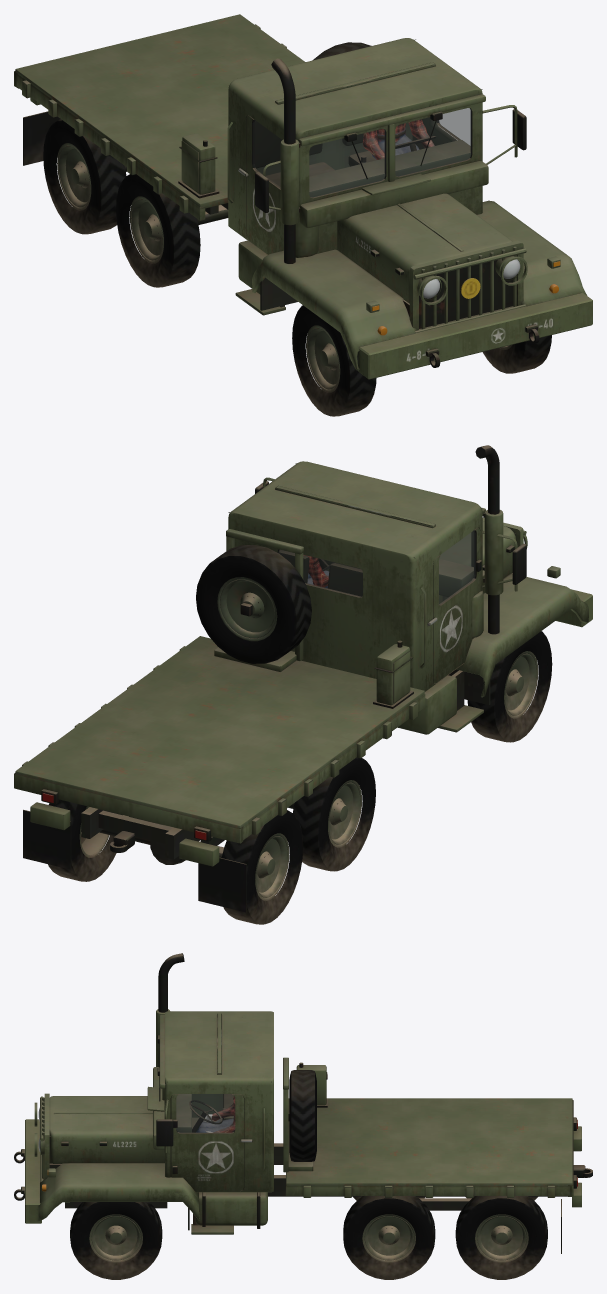
The model's file is nuketown_m35.glb.
3 views of the same model, one above another, from view 1: azimuth 30°, elevation 25°; view 2: azimuth 150°, elevation 25°; view 3: azimuth 270°, elevation 25° (orthographic). The views are drawn at different scales.
Parts seen in each view (by area): view 1: m35_A, m35_glass, m35_B, mq_man_plaid_sit-low; view 2: m35_A, m35_B, m35_glass; view 3: m35_A, m35_B, m35_glass, mq_man_plaid_sit-low.
Boxes of the visible parts, x1,y1,x2,y2 form: m35_A: (14,14,592,416); m35_glass: (253,108,471,197); m35_B: (124,39,482,316); mq_man_plaid_sit-low: (362,119,434,159); m35_A: (14,445,592,924); m35_B: (81,463,512,864); m35_glass: (278,530,475,604); m35_A: (14,953,592,1279); m35_B: (49,1081,567,1230); m35_glass: (176,1094,234,1132); mq_man_plaid_sit-low: (196,1096,235,1132).
Bounding box in the file's own units: 2.75 × 3.24 × 6.79.
4 materials, 3 textured.
